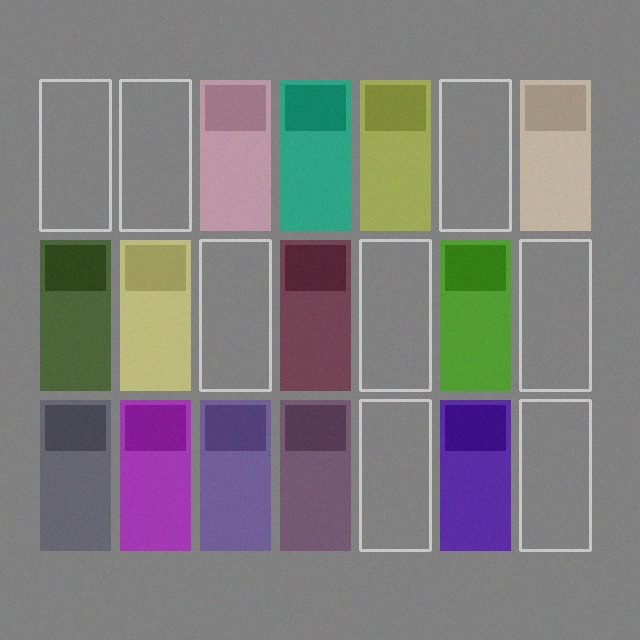space-empty: (40, 80, 110, 230), (120, 80, 190, 230), (440, 80, 510, 230), (200, 240, 270, 390), (360, 240, 430, 390), (520, 240, 590, 390), (360, 400, 430, 550), (520, 400, 590, 550)
space-occupied: (200, 80, 270, 230), (280, 80, 350, 230), (360, 80, 430, 230), (520, 80, 590, 230), (40, 240, 110, 390), (120, 240, 190, 390), (280, 240, 350, 390), (440, 240, 510, 390), (40, 400, 110, 550), (120, 400, 190, 550), (200, 400, 270, 550), (280, 400, 350, 550), (440, 400, 510, 550)
